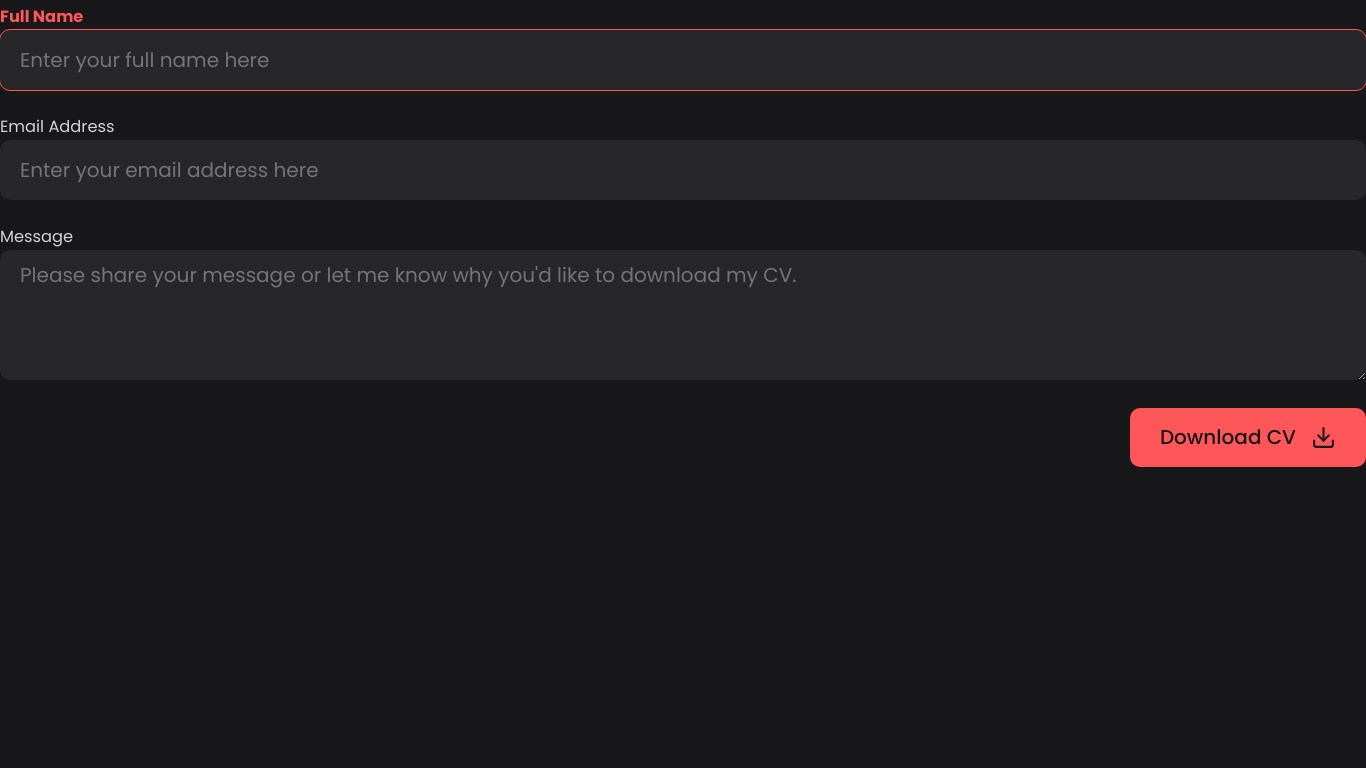
<DownloadReasonForm/> › shows error banner after failed submission
Type "John Doe" into the field labelled "Full Name". click: (683, 60)
box: [0,30,1365,90]
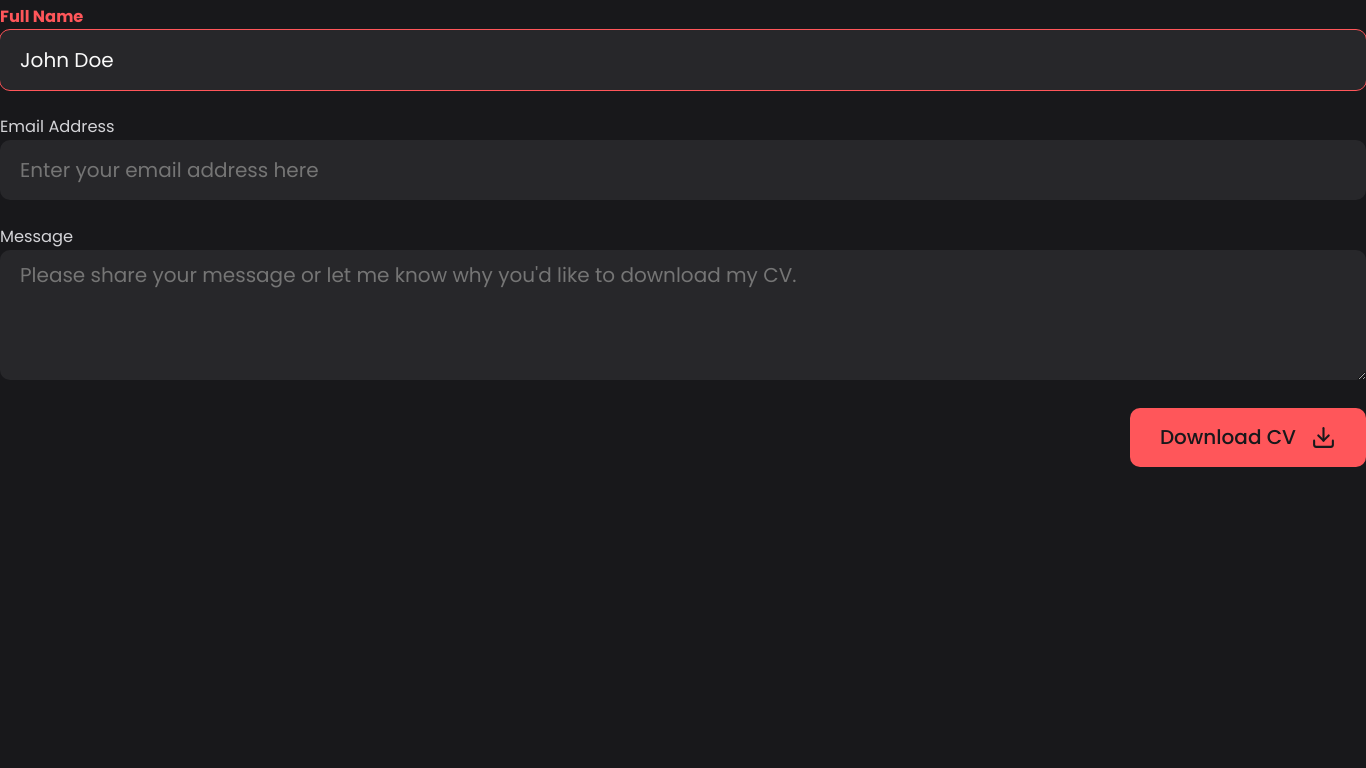
Type "john@example.com" into the field labelled "Email Address". click: (683, 170)
box: [0,140,1365,200]
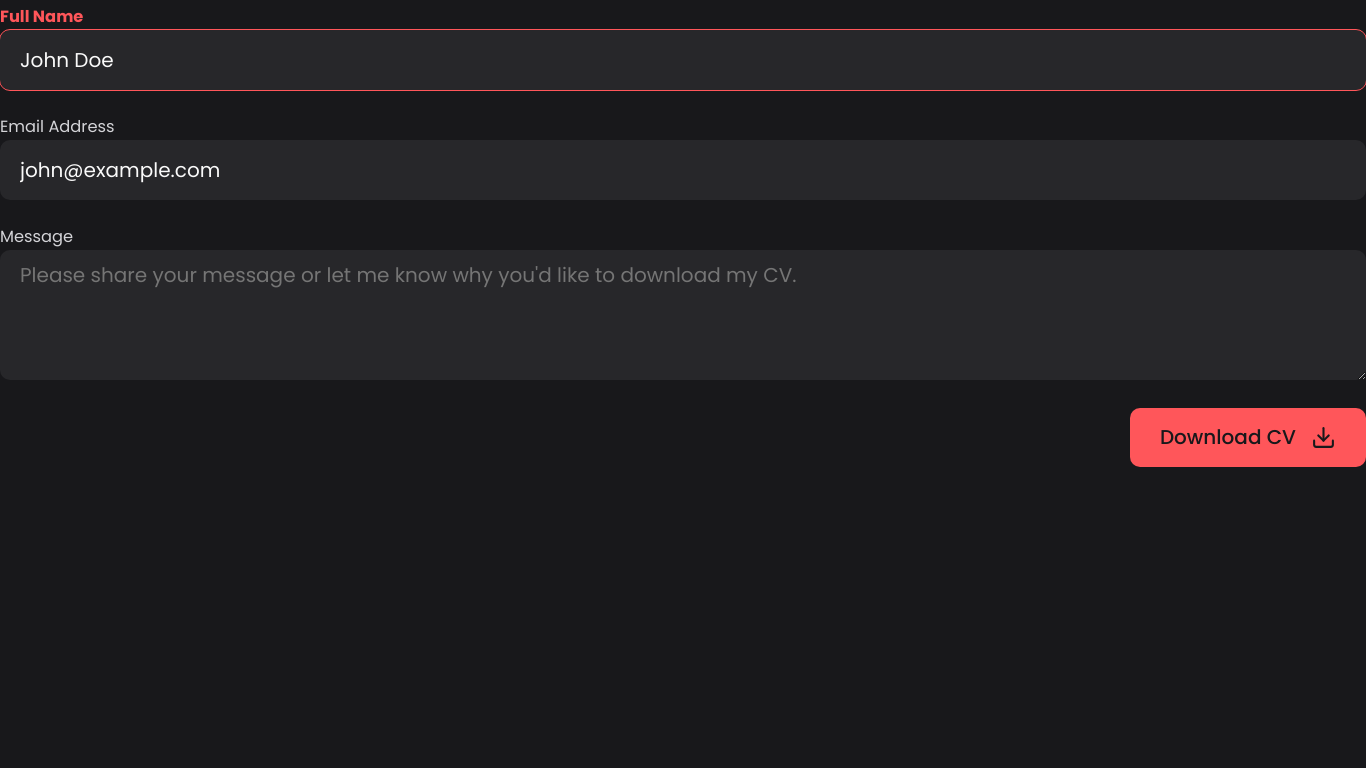
Replace the text in the text box labelled "Message" with "Hello, world!". click: (683, 315)
box: [0,250,1365,380]
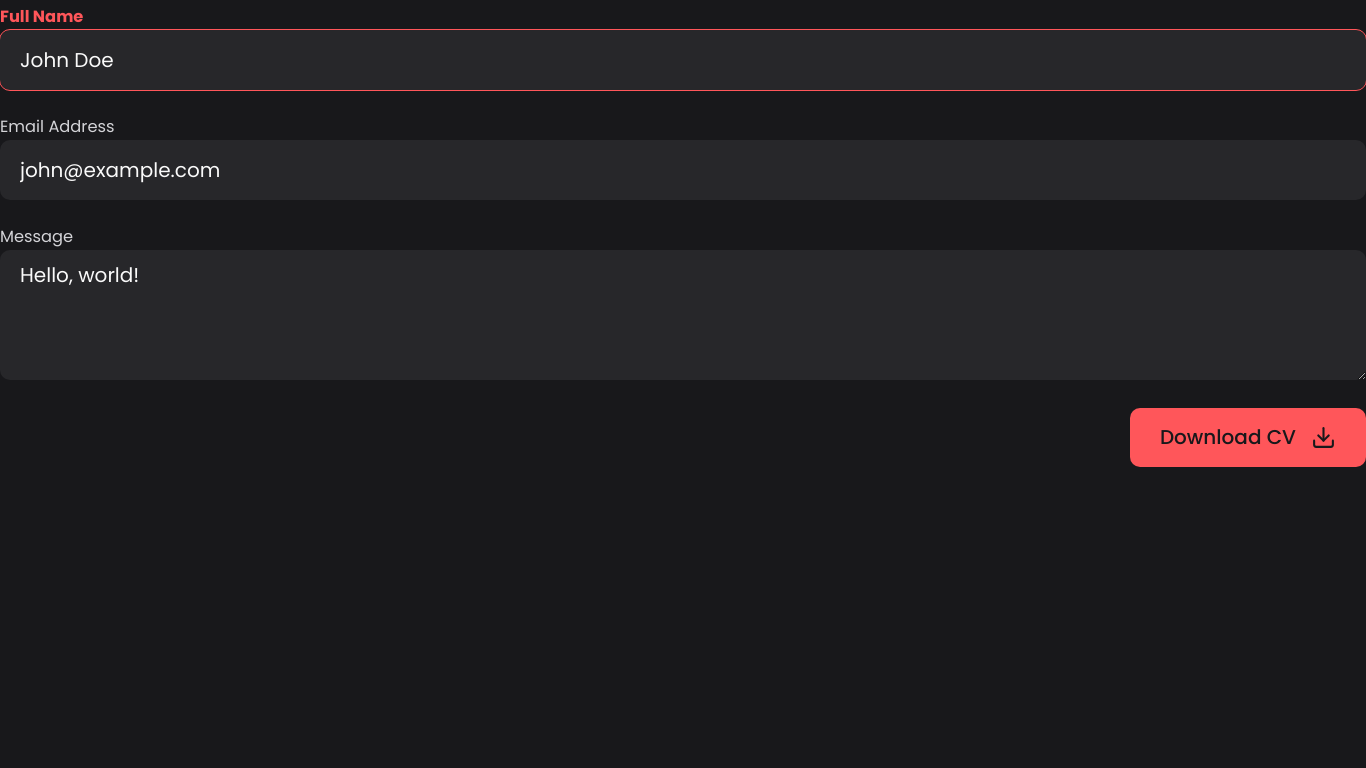
Click the button "Download CV". click: click(1248, 438)
box: [1130,408,1365,467]
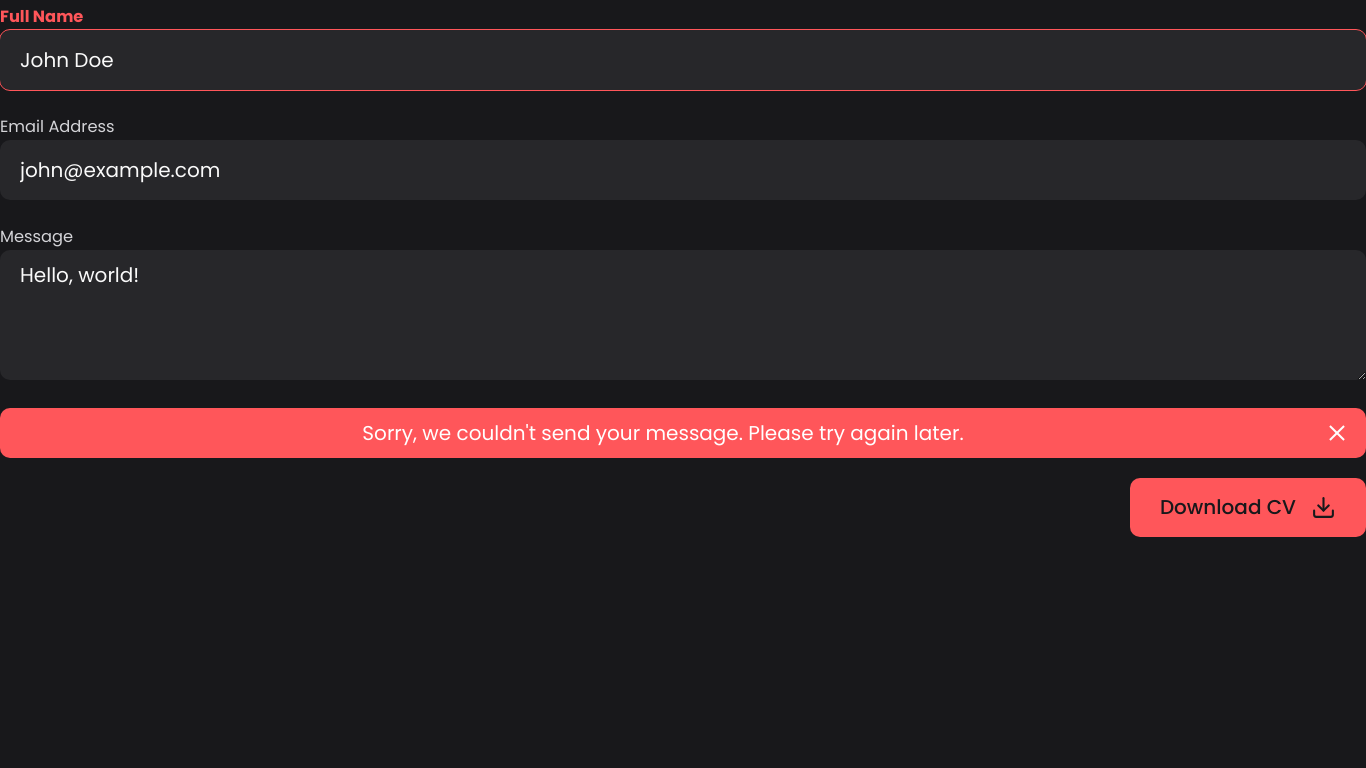
Expected: the dialog with test id "banner" is shown, [0,408,1365,458]
Expected: the dialog with test id "banner" reads "Sorry, we couldn't send your message. Please try again later.", [362,419,964,447]
